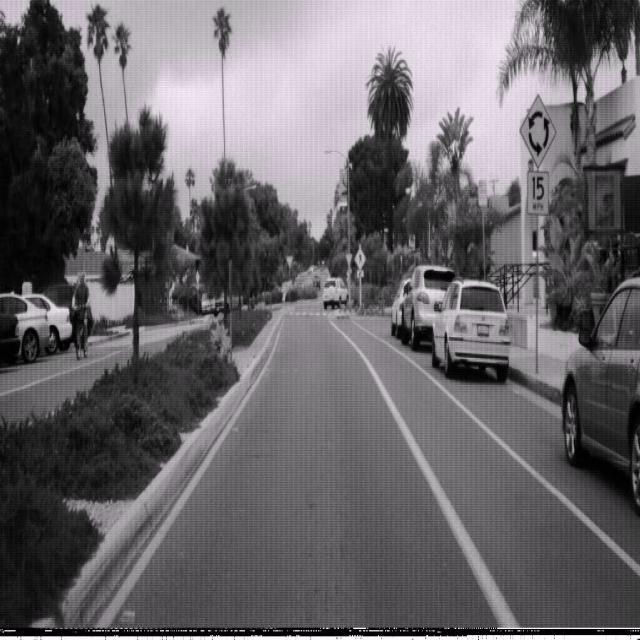pedestrianCrossing: (354, 246, 366, 270)
